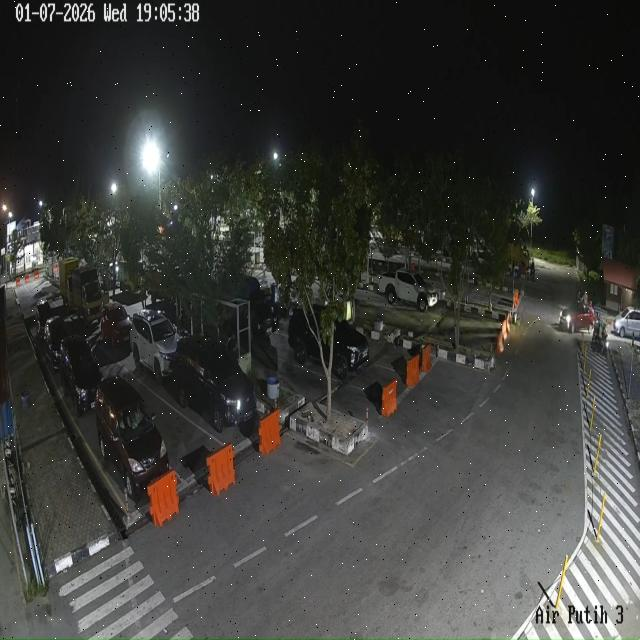Golongan IVA: (96, 376, 169, 500), (173, 336, 256, 432), (288, 304, 369, 380), (129, 309, 178, 384), (59, 335, 102, 417), (42, 316, 68, 370), (101, 301, 131, 345), (559, 301, 596, 333), (613, 307, 640, 338), (36, 300, 52, 339)
Golongan IVB: (378, 270, 438, 312)
Golongan VB: (58, 258, 108, 322)
